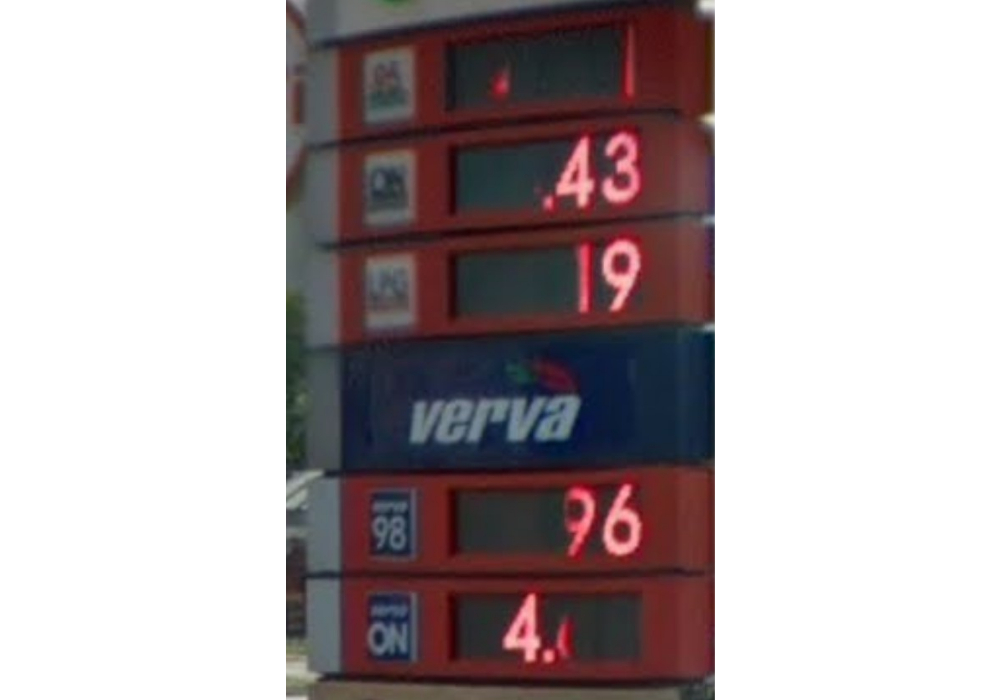LPG: (359, 251, 418, 333)
ON: (362, 588, 420, 664)
PB98: (366, 483, 416, 560)
